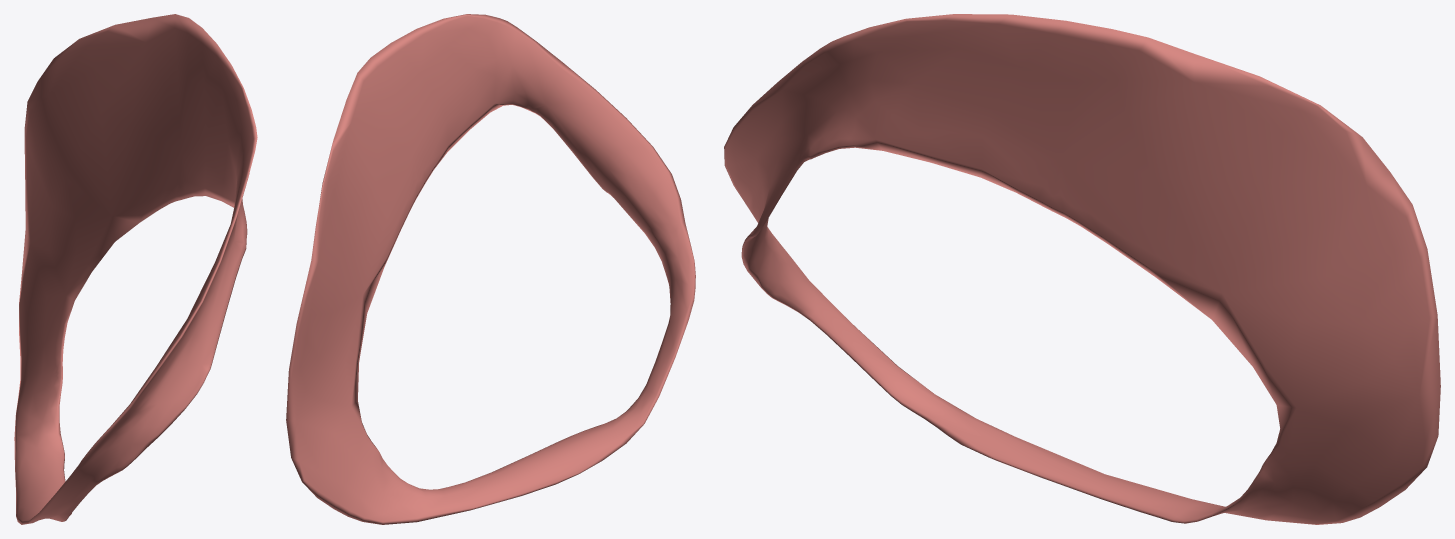
3 renders of one model, left to right at view 1: azimuth 30°, elevation 25°; view 2: azimuth 150°, elevation 25°; view 3: azimuth 270°, elevation 25°, orthographic. The views are drawn at different scales.
Visible parts, largest first — view 1: ZA_0e767a98bb684b5c; view 2: ZA_0e767a98bb684b5c; view 3: ZA_0e767a98bb684b5c.
Boxes of the visible parts, bbox=[...] form: ZA_0e767a98bb684b5c: bbox=[14, 14, 257, 524]; ZA_0e767a98bb684b5c: bbox=[286, 14, 695, 524]; ZA_0e767a98bb684b5c: bbox=[724, 14, 1440, 524].
Size of the model in its own units: 0.0322 by 0.0584 by 0.0664.
